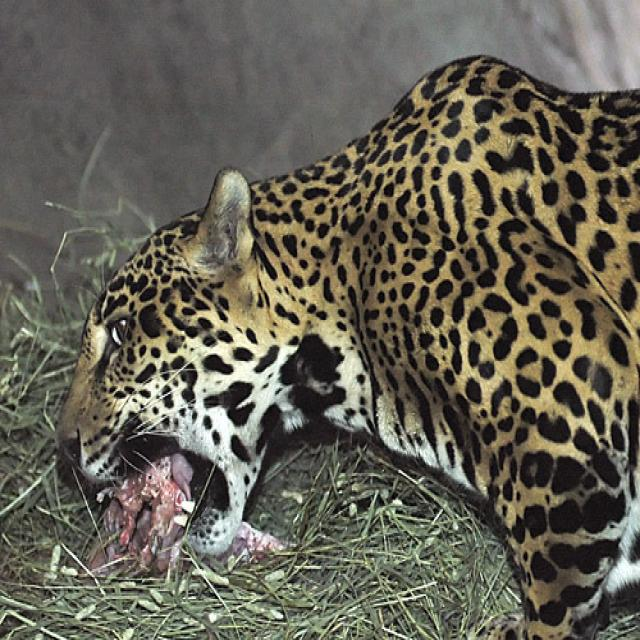Leopard: (30, 49, 636, 635)
